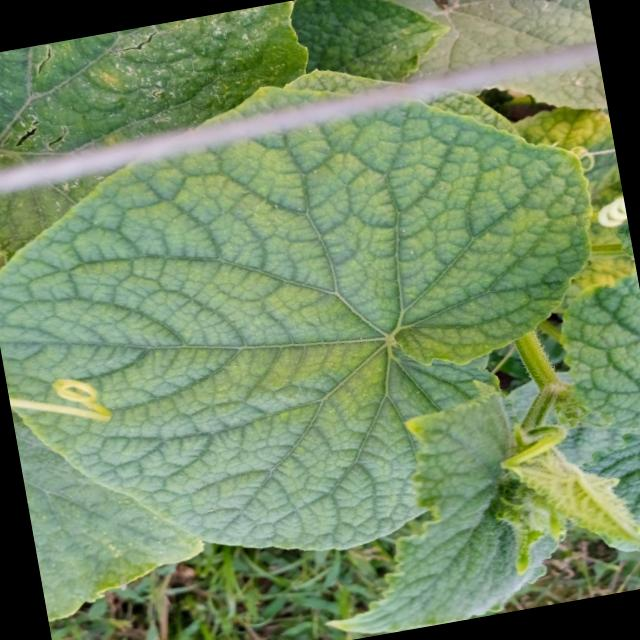cucumber_healthy: (0, 29, 640, 604), (286, 380, 581, 640), (526, 253, 640, 581)
